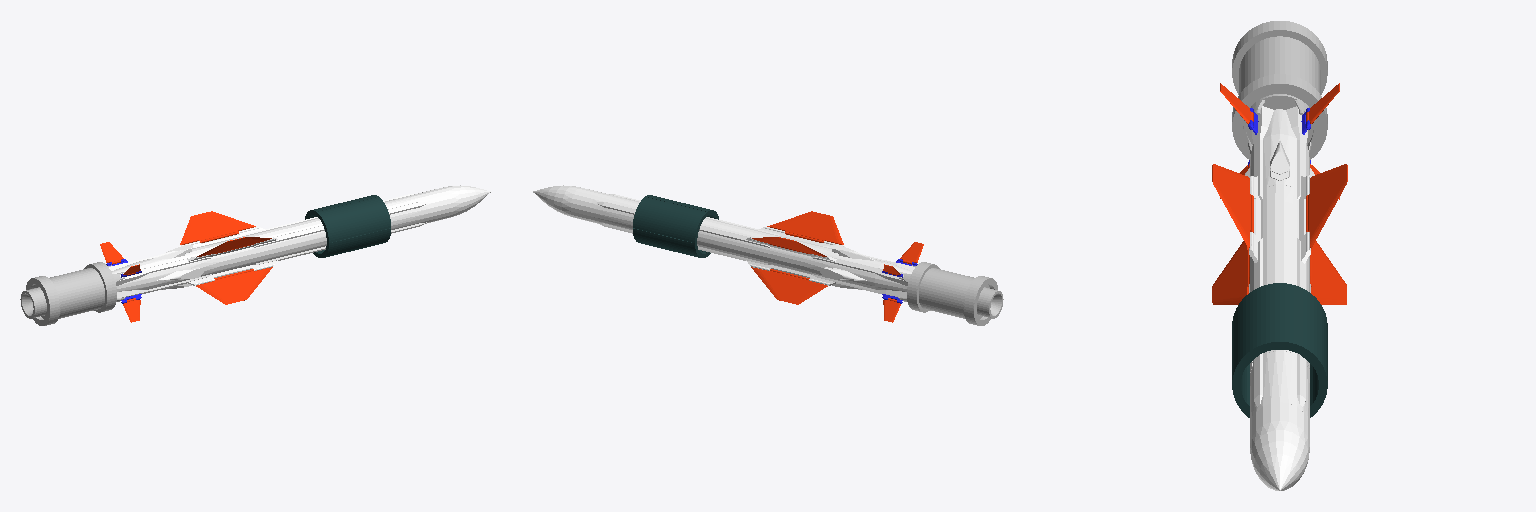
--- Render facts (derived) ---
Views: 3 orthographic renders of the robot side by side, from view 1: azimuth 30°, elevation 25°; view 2: azimuth 150°, elevation 25°; view 3: azimuth 270°, elevation 25°.
Model model_missile with 18 links and 17 joints (12 revolute, 5 fixed), rooted at base_link, posed every joint at zero.
Visible links, largest first — view 1: base_link, Booster_1, Holder_2, Wing1_3, Wing1_1, Holder_3; view 2: base_link, Booster_1, Holder_1, Wing1_2, Wing1_4, Holder_4; view 3: base_link, Booster_1, Holder_2, Holder_1, Wing1_4, Wing1_1, Wing1_3, Wing1_2, Holder_3, Holder_4.
Link boxes in pixels (x1,y1,x2,y2): base_link: (109,185,490,297); Booster_1: (20,262,124,325); Holder_2: (317,197,390,242); Wing1_3: (196,267,272,304); Wing1_1: (180,211,255,244); Holder_3: (317,228,390,257); base_link: (533,185,914,297); Booster_1: (899,262,1003,325); Holder_1: (633,197,706,242); Wing1_2: (751,267,827,304); Wing1_4: (767,211,843,244); Holder_4: (633,228,706,257); base_link: (1245,106,1314,490); Booster_1: (1232,21,1327,159); Holder_2: (1232,283,1279,384); Holder_1: (1280,283,1327,384); Wing1_4: (1212,164,1253,248); Wing1_1: (1306,164,1347,248); Wing1_3: (1212,241,1249,304); Wing1_2: (1310,241,1346,304); Holder_3: (1232,364,1249,417); Holder_4: (1310,364,1327,417).
Size in the robot's own frame: 5.95 by 0.7786 by 0.7786 metres.
Meshes: 18 distinct files referenced, 18 mesh visuals loaded (18 binary STL).

robot.urdf — model_missile:
<?xml version="1.0" ?>
<!-- =================================================================================== -->
<!-- |    This document was autogenerated by xacro from urdf/model_missile.xacro       | -->
<!-- |    EDITING THIS FILE BY HAND IS NOT RECOMMENDED                                 | -->
<!-- =================================================================================== -->
<robot name="model_missile">
  <material name="grey">
    <color rgba="0.82421875 0.82421875 0.82421875 1.0"/>
  </material>
  <material name="darkgrey">
    <color rgba="0.1843137254901961 0.30980392156862746 0.30980392156862746 1.000"/>
  </material>
  <material name="silver">
    <color rgba="0.700 0.700 0.700 1.000"/>
  </material>
  <material name="white">
    <color rgba="1 1 1 1"/>
  </material>
  <material name="orange">
    <color rgba="1 0.3 0.1 1"/>
  </material>
  <material name="blue">
    <color rgba="0.2 0.2 1 1"/>
  </material>
  <material name="red">
    <color rgba="0.8 0 0 1"/>
  </material>
  <material name="green">
    <color rgba="0.0 1 0.0 1"/>
  </material>
  <material name="black">
    <color rgba="0 0 0 1"/>
  </material>
  <transmission name="fins_rev1_tran">
    <type>transmission_interface/SimpleTransmission</type>
    <joint name="fins_rev1">
      <hardwareInterface>hardware_interface/EffortJointInterface</hardwareInterface>
    </joint>
    <actuator name="fins_rev1_actr">
      <hardwareInterface>hardware_interface/EffortJointInterface</hardwareInterface>
      <mechanicalReduction>1</mechanicalReduction>
    </actuator>
  </transmission>
  <transmission name="fins_rev4_tran">
    <type>transmission_interface/SimpleTransmission</type>
    <joint name="fins_rev4">
      <hardwareInterface>hardware_interface/EffortJointInterface</hardwareInterface>
    </joint>
    <actuator name="fins_rev4_actr">
      <hardwareInterface>hardware_interface/EffortJointInterface</hardwareInterface>
      <mechanicalReduction>1</mechanicalReduction>
    </actuator>
  </transmission>
  <transmission name="fins_rev3_tran">
    <type>transmission_interface/SimpleTransmission</type>
    <joint name="fins_rev3">
      <hardwareInterface>hardware_interface/EffortJointInterface</hardwareInterface>
    </joint>
    <actuator name="fins_rev3_actr">
      <hardwareInterface>hardware_interface/EffortJointInterface</hardwareInterface>
      <mechanicalReduction>1</mechanicalReduction>
    </actuator>
  </transmission>
  <transmission name="fins_rev2_tran">
    <type>transmission_interface/SimpleTransmission</type>
    <joint name="fins_rev2">
      <hardwareInterface>hardware_interface/EffortJointInterface</hardwareInterface>
    </joint>
    <actuator name="fins_rev2_actr">
      <hardwareInterface>hardware_interface/EffortJointInterface</hardwareInterface>
      <mechanicalReduction>1</mechanicalReduction>
    </actuator>
  </transmission>
  <transmission name="wings_fold1_tran">
    <type>transmission_interface/SimpleTransmission</type>
    <joint name="wings_fold1">
      <hardwareInterface>hardware_interface/EffortJointInterface</hardwareInterface>
    </joint>
    <actuator name="wings_fold1_actr">
      <hardwareInterface>hardware_interface/EffortJointInterface</hardwareInterface>
      <mechanicalReduction>1</mechanicalReduction>
    </actuator>
  </transmission>
  <transmission name="wings_fold2_tran">
    <type>transmission_interface/SimpleTransmission</type>
    <joint name="wings_fold2">
      <hardwareInterface>hardware_interface/EffortJointInterface</hardwareInterface>
    </joint>
    <actuator name="wings_fold2_actr">
      <hardwareInterface>hardware_interface/EffortJointInterface</hardwareInterface>
      <mechanicalReduction>1</mechanicalReduction>
    </actuator>
  </transmission>
  <transmission name="wings_fold3_tran">
    <type>transmission_interface/SimpleTransmission</type>
    <joint name="wings_fold3">
      <hardwareInterface>hardware_interface/EffortJointInterface</hardwareInterface>
    </joint>
    <actuator name="wings_fold3_actr">
      <hardwareInterface>hardware_interface/EffortJointInterface</hardwareInterface>
      <mechanicalReduction>1</mechanicalReduction>
    </actuator>
  </transmission>
  <transmission name="wings_fold4_tran">
    <type>transmission_interface/SimpleTransmission</type>
    <joint name="wings_fold4">
      <hardwareInterface>hardware_interface/EffortJointInterface</hardwareInterface>
    </joint>
    <actuator name="wings_fold4_actr">
      <hardwareInterface>hardware_interface/EffortJointInterface</hardwareInterface>
      <mechanicalReduction>1</mechanicalReduction>
    </actuator>
  </transmission>
  <transmission name="fin_fold1_tran">
    <type>transmission_interface/SimpleTransmission</type>
    <joint name="fin_fold1">
      <hardwareInterface>hardware_interface/EffortJointInterface</hardwareInterface>
    </joint>
    <actuator name="fin_fold1_actr">
      <hardwareInterface>hardware_interface/EffortJointInterface</hardwareInterface>
      <mechanicalReduction>1</mechanicalReduction>
    </actuator>
  </transmission>
  <transmission name="fin_fold2_tran">
    <type>transmission_interface/SimpleTransmission</type>
    <joint name="fin_fold2">
      <hardwareInterface>hardware_interface/EffortJointInterface</hardwareInterface>
    </joint>
    <actuator name="fin_fold2_actr">
      <hardwareInterface>hardware_interface/EffortJointInterface</hardwareInterface>
      <mechanicalReduction>1</mechanicalReduction>
    </actuator>
  </transmission>
  <transmission name="fin_fold3_tran">
    <type>transmission_interface/SimpleTransmission</type>
    <joint name="fin_fold3">
      <hardwareInterface>hardware_interface/EffortJointInterface</hardwareInterface>
    </joint>
    <actuator name="fin_fold3_actr">
      <hardwareInterface>hardware_interface/EffortJointInterface</hardwareInterface>
      <mechanicalReduction>1</mechanicalReduction>
    </actuator>
  </transmission>
  <transmission name="fin_fold4_tran">
    <type>transmission_interface/SimpleTransmission</type>
    <joint name="fin_fold4">
      <hardwareInterface>hardware_interface/EffortJointInterface</hardwareInterface>
    </joint>
    <actuator name="fin_fold4_actr">
      <hardwareInterface>hardware_interface/EffortJointInterface</hardwareInterface>
      <mechanicalReduction>1</mechanicalReduction>
    </actuator>
  </transmission>
  <gazebo>
    <plugin filename="libgazebo_ros_control.so" name="model_missile_controller">
      <robotNamespace>model_missile_controller</robotNamespace>
      <robotSimType>gazebo_ros_control/DefaultRobotHWSim</robotSimType>
    </plugin>
    <plugin filename="libSimpleThruster.so" name="BoosterThrust">
      <link_name>Booster_1</link_name>
      <forward_dir>1 0 0</forward_dir>
      <thrust_origin>-0.920 0 0</thrust_origin>
      <robotNamespace/>
      <topic_name>booster_visual</topic_name>
      <thrust_topic>booster_force</thrust_topic>
    </plugin>
    <plugin filename="libThrustVectoring.so" name="ThrustVectoring">
      <link_name>base_link</link_name>
      <forward_dir>1 0 0</forward_dir>
      <thrust_origin>-1.880 0 0</thrust_origin>
      <robotNamespace/>
      <topic_name>thrust_visual</topic_name>
      <vector_topic>thrust_force</vector_topic>
    </plugin>
    <plugin filename="libAerodynamic.so" name="FullBodyAerodynamic">
      <cp>-0.238 0.0 0.0</cp>
      <sref>0.096</sref>
      <lref>0.350</lref>
      <air_density>1.2041</air_density>
      <link_name>base_link</link_name>
      <radial_symmetry>1/</radial_symmetry>
      <!-- <upward>0 0 1</upward> -->
      <forward>1 0 0</forward>
      <robotNamespace/>
      <topic_name>AeroVectors</topic_name>
      <aerodynamics axis_type="wind" case="with_booster">
        <mach_table>0.2 0.4 0.5 0.6 0.7 0.75 0.8 0.93</mach_table>
        <alpha_table>.00, 4.00, 8.00, 12.00, 16.00, 20.00, 24.00, 28.00</alpha_table>
        <mach nr="0.2">
          <cn_table>0.000, 1.037, 2.115, 3.322, 4.383, 5.449, 6.445, 7.475</cn_table>
          <cm_table>0.000, -0.222, -0.289, -0.558, -0.080, 0.688, 1.595, 2.038</cm_table>
          <ca_table>0.266, 0.249, 0.194, 0.148, 0.134, 0.160, 0.128, 0.050</ca_table>
          <cl_table>0.000, 1.017, 2.067, 3.218, 4.176, 5.066, 5.836, 6.576</cl_table>
          <cd_table>0.266, 0.321, 0.487, 0.835, 1.337, 2.014, 2.738, 3.553</cd_table>
        </mach>
        <mach nr="0.4">
          <cn_table>0.000, 1.051, 2.134, 3.337, 4.373, 5.448, 6.500, 7.626</cn_table>
          <cm_table>0.000, -0.250, -0.333, -0.604, -0.055, 0.655, 1.426, 1.835</cm_table>
          <ca_table>0.263, 0.246, 0.193, 0.147, 0.133, 0.157, 0.121, 0.037</ca_table>
          <cl_table>0.000, 1.031, 2.087, 3.233, 4.167, 5.066, 5.889, 6.716</cl_table>
          <cd_table>0.263, 0.318, 0.488, 0.838, 1.333, 2.011, 2.754, 3.613</cd_table>
        </mach>
        <mach nr="0.5">
          <cn_table>0.000, 1.070, 2.169, 3.390, 4.433, 5.517, 6.603, 7.866</cn_table>
          <cm_table>0.000, -0.276, -0.389, -0.727, -0.210, 0.446, 1.204, 1.690</cm_table>
          <ca_table>0.261, 0.243, 0.187, 0.141, 0.127, 0.152, 0.116, 0.025</ca_table>
          <cl_table>0.000, 1.051, 2.121, 3.286, 4.227, 5.132, 5.986, 6.934</cl_table>
          <cd_table>0.261, 0.317, 0.487, 0.842, 1.344, 2.030, 2.791, 3.715</cd_table>
        </mach>
        <mach nr="0.6">
          <cn_table>0.000, 1.093, 2.208, 3.444, 4.494, 5.607, 6.812, 8.206</cn_table>
          <cm_table>0.000, -0.305, -0.444, -0.825, -0.337, 0.307, 1.051, 1.581</cm_table>
          <ca_table>0.259, 0.240, 0.183, 0.135, 0.121, 0.148, 0.108, 0.011</ca_table>
          <cl_table>0.000, 1.074, 2.161, 3.341, 4.287, 5.219, 6.179, 7.240</cl_table>
          <cd_table>0.259, 0.316, 0.488, 0.848, 1.355, 2.056, 2.869, 3.862</cd_table>
        </mach>
        <mach nr="0.7">
          <cn_table>0.000, 1.101, 2.218, 3.456, 4.531, 5.736, 7.029, 8.570</cn_table>
          <cm_table>0.000, -0.320, -0.476, -0.877, -0.474, 0.203, 0.845, 1.353</cm_table>
          <ca_table>0.257, 0.238, 0.180, 0.132, 0.119, 0.144, 0.101, -0.002</ca_table>
          <cl_table>0.000, 1.081, 2.172, 3.353, 4.323, 5.341, 6.381, 7.568</cl_table>
          <cd_table>0.257, 0.314, 0.487, 0.848, 1.363, 2.097, 2.951, 4.021</cd_table>
        </mach>
        <mach nr="0.75">
          <cn_table>0.000, 1.118, 2.250, 3.503, 4.607, 5.853, 7.206, 8.818</cn_table>
          <cm_table>0.000, -0.345, -0.528, -0.974, -0.628, 0.040, 0.636, 1.106</cm_table>
          <ca_table>0.256, 0.236, 0.178, 0.129, 0.116, 0.141, 0.097, -0.009</ca_table>
          <cl_table>0.000, 1.099, 2.204, 3.399, 4.397, 5.452, 6.543, 7.790</cl_table>
          <cd_table>0.256, 0.314, 0.489, 0.855, 1.382, 2.135, 3.020, 4.132</cd_table>
        </mach>
        <mach nr="0.8">
          <cn_table>0.000, 1.148, 2.324, 3.656, 4.850, 6.177, 7.617, 9.288</cn_table>
          <cm_table>0.000, -0.366, -0.575, -1.115, -0.810, -0.218, 0.398, 0.701</cm_table>
          <ca_table>0.271, 0.251, 0.189, 0.137, 0.123, 0.151, 0.107, -0.001</ca_table>
          <cl_table>0.000, 1.128, 2.275, 3.547, 4.628, 5.753, 6.915, 8.201</cl_table>
          <cd_table>0.271, 0.330, 0.510, 0.894, 1.455, 2.255, 3.196, 4.359</cd_table>
        </mach>
        <mach nr="0.93">
          <cn_table>0.000, 1.254, 2.540, 4.024, 5.393, 6.903, 8.553, 10.586</cn_table>
          <cm_table>0.000, -0.458, -0.795, -1.620,-1.509, -0.989, -0.510, -0.389</cm_table>
          <ca_table>0.458, 0.455, 0.440, 0.421, 0.399, 0.370, 0.294, 0.147</ca_table>
          <cl_table>0.000, 1.219, 2.454, 3.848, 5.074, 6.360, 7.694, 9.278</cl_table>
          <cd_table>0.458, 0.541, 0.790, 1.248, 1.870, 2.709, 3.748, 5.100</cd_table>
        </mach>
      </aerodynamics>
      <aerodynamics axis_type="wind" case="boosterless">
        <mach_table>0.2, 0.4, 0.5, 0.6, 0.7, 0.75, 0.8, 0.93</mach_table>
        <alpha_table>.00, 4.00, 8.00, 12.00, 16.00, 20.00, 24.00, 28.00</alpha_table>
        <mach nr="0.2">
          <cn_table>0.000, 1.013, 2.044, 3.181, 4.150, 5.103, 5.967, 6.846</cn_table>
          <cm_table>0.000, -0.041, 0.192, 0.339, 1.345, 2.745, 4.378, 5.630</cm_table>
          <ca_table>0.239, 0.221, 0.167, 0.122, 0.110, 0.141, 0.118, 0.056</ca_table>
          <cl_table>0.000, 0.995, 2.001, 3.086, 3.959, 4.747, 5.403, 6.019</cl_table>
          <cd_table>0.239, 0.292, 0.450, 0.780, 1.249, 1.878, 2.535, 3.264</cd_table>
        </mach>
        <mach nr="0.4">
          <cn_table>0.000, 1.027, 2.062, 3.192, 4.132, 5.086, 5.996, 6.957</cn_table>
          <cm_table>0.000, -0.068, 0.153, 0.311, 1.412, 2.792, 4.345, 5.636</cm_table>
          <ca_table>0.236, 0.219, 0.166, 0.122, 0.110, 0.138, 0.112, 0.046</ca_table>
          <cl_table>0.000, 1.009, 2.019, 3.097, 3.941, 4.732, 5.432, 6.121</cl_table>
          <cd_table>0.236, 0.290, 0.451, 0.783, 1.244, 1.869, 2.541, 3.306</cd_table>
        </mach>
        <mach nr="0.5">
          <cn_table>0.000, 1.046, 2.096, 3.243, 4.188, 5.148, 6.084, 7.158</cn_table>
          <cm_table>0.000, -0.094, 0.100, 0.197, 1.278, 2.623, 4.198, 5.696</cm_table>
          <ca_table>0.234, 0.216, 0.161, 0.115, 0.103, 0.134, 0.108, 0.036</ca_table>
          <cl_table>0.000, 1.028, 2.053, 3.149, 3.997, 4.792, 5.515, 6.304</cl_table>
          <cd_table>0.234, 0.289, 0.451, 0.787, 1.254, 1.886, 2.573, 3.392</cd_table>
        </mach>
        <mach nr="0.6">
          <cn_table>0.000, 1.069, 2.135, 3.296, 4.245, 5.229, 6.262, 7.452</cn_table>
          <cm_table>0.000, -0.123, 0.047, 0.108, 1.172, 2.533, 4.201, 5.827</cm_table>
          <ca_table>0.232, 0.213, 0.156, 0.109, 0.098, 0.130, 0.101, 0.025</ca_table>
          <cl_table>0.000, 1.051, 2.093, 3.202, 4.053, 4.869, 5.680, 6.568</cl_table>
          <cd_table>0.232, 0.288, 0.452, 0.792, 1.264, 1.910, 2.639, 3.520</cd_table>
        </mach>
        <mach nr="0.7">
          <cn_table>0.000, 1.076, 2.145, 3.306, 4.278, 5.339, 6.450, 7.770</cn_table>
          <cm_table>0.000, -0.137, 0.019, 0.065, 1.056, 2.521, 4.151, 5.839</cm_table>
          <ca_table>0.230, 0.211, 0.154, 0.107, 0.096, 0.127, 0.095, 0.014</ca_table>
          <cl_table>0.000, 1.059, 2.103, 3.212, 4.086, 4.974, 5.854, 6.854</cl_table>
          <cd_table>0.230, 0.286, 0.451, 0.792, 1.271, 1.945, 2.711, 3.660</cd_table>
        </mach>
        <mach nr="0.75">
          <cn_table>0.000, 1.094, 2.176, 3.352, 4.351, 5.448, 6.612, 7.995</cn_table>
          <cm_table>0.000, -0.161, -0.032, -0.027, 0.919, 2.405, 4.021, 5.713</cm_table>
          <ca_table>0.230, 0.210, 0.152, 0.104, 0.093, 0.124, 0.092, 0.008</ca_table>
          <cl_table>0.000, 1.077, 2.134, 3.258, 4.156, 5.077, 6.002, 7.055</cl_table>
          <cd_table>0.230, 0.286, 0.453, 0.799, 1.289, 1.980, 2.774, 3.761</cd_table>
        </mach>
        <mach nr="0.8">
          <cn_table>0.000, 1.124, 2.250, 3.504, 4.588, 5.763, 7.008, 8.441</cn_table>
          <cm_table>0.000, -0.183, -0.077, -0.163, 0.762, 2.194, 3.861, 5.428</cm_table>
          <ca_table>0.245, 0.225, 0.163, 0.112, 0.100, 0.134, 0.103, 0.017</ca_table>
          <cl_table>0.000, 1.106, 2.205, 3.404, 4.383, 5.369, 6.360, 7.445</cl_table>
          <cd_table>0.245, 0.302, 0.474, 0.838, 1.361, 2.097, 2.944, 3.978</cd_table>
        </mach>
        <mach nr="0.93">
          <cn_table>0.000, 1.227, 2.460, 3.862, 5.108, 6.451, 7.887, 9.638</cn_table>
          <cm_table>0.000, -0.249, -0.243, -0.576, 0.241, 1.695, 3.348, 4.986</cm_table>
          <ca_table>0.433, 0.430, 0.416, 0.397, 0.377, 0.355, 0.292, 0.172</ca_table>
          <cl_table>0.000, 1.194, 2.378, 3.695, 4.806, 5.941, 7.086, 8.429</cl_table>
          <cd_table>0.433, 0.514, 0.754, 1.191, 1.771, 2.540, 3.475, 4.676</cd_table>
        </mach>
      </aerodynamics>
    </plugin>
    <plugin filename="libDetachableJoint.so" name="DetachHolder1">
      <parent_link>base_link</parent_link>
      <link_to_detach>Holder_1</link_to_detach>
      <joint_to_detach>HolderJoint1</joint_to_detach>
      <detach_direction>0 1 1</detach_direction>
      <!-- <detach_acc>10000</detach_acc> -->
      <detach_topic>holder1_detach</detach_topic>
      <robotNamespace/>
      <visual_offset/>
      <topic_name>holder1visual</topic_name>
    </plugin>
    <plugin filename="libDetachableJoint.so" name="DetachHolder2">
      <parent_link>base_link</parent_link>
      <link_to_detach>Holder_2</link_to_detach>
      <joint_to_detach>HolderJoint2</joint_to_detach>
      <detach_direction>0 -1 1</detach_direction>
      <detach_acc>10</detach_acc>
      <detach_topic>holder2_detach</detach_topic>
      <robotNamespace/>
      <visual_offset/>
      <topic_name>holder2visual</topic_name>
    </plugin>
    <plugin filename="libDetachableJoint.so" name="DetachHolder3">
      <parent_link>base_link</parent_link>
      <link_to_detach>Holder_3</link_to_detach>
      <joint_to_detach>HolderJoint3</joint_to_detach>
      <detach_direction>0 -1 -1</detach_direction>
      <detach_acc>10</detach_acc>
      <detach_topic>holder3_detach</detach_topic>
      <robotNamespace/>
      <visual_offset/>
      <topic_name>holder3visual</topic_name>
    </plugin>
    <plugin filename="libDetachableJoint.so" name="DetachHolder4">
      <parent_link>base_link</parent_link>
      <link_to_detach>Holder_4</link_to_detach>
      <joint_to_detach>HolderJoint4</joint_to_detach>
      <detach_direction>0 1 -1</detach_direction>
      <detach_acc>100</detach_acc>
      <detach_topic>holder4_detach</detach_topic>
      <robotNamespace/>
      <visual_offset/>
      <topic_name>holder4visual</topic_name>
    </plugin>
    <plugin filename="libDetachableJoint.so" name="DetachBooster">
      <parent_link>base_link</parent_link>
      <link_to_detach>Booster_1</link_to_detach>
      <joint_to_detach>booster_fixing</joint_to_detach>
      <detach_direction>-1 0 0</detach_direction>
      <detach_acc>10</detach_acc>
      <detach_topic>booster_detach</detach_topic>
      <visual_offset/>
      <robotNamespace/>
    </plugin>
    <plugin filename="libAerodynamic.so" name="Fin1Aerodynamic">
      <cp>0.0 0.1 0.1</cp>
      <sref>0.044</sref>
      <lref>0.044</lref>
      <air_density>1.2041</air_density>
      <link_name>FinHolder_1</link_name>
      <radial_symmetry>1/</radial_symmetry>
      <!-- <upward>0 0 1</upward> -->
      <forward>1 0 0</forward>
      <robotNamespace/>
      <topic_name>AeroVectors</topic_name>
      <aerodynamics axis_type="body" case="with_booster">
        <mach_table>0.2 0.4 0.5 0.6 0.7 0.75 0.8 0.93</mach_table>
        <alpha_table>.00, 4.00, 8.00, 12.00, 16.00, 20.00, 24.00, 28.00</alpha_table>
        <mach nr="0.2">
          <cn_table>.0000, .2863, .5432, .8305, .9726, 1.0564, 1.0950, 1.1860</cn_table>
          <cm_table>.0000, -1.1294, -2.1425, -3.2754, -3.8362, -4.1665, -4.3190, -4.6776</cm_table>
          <ca_table>.0229, .0229, .0229, .0229, .0229, .0229, .0229, .0229</ca_table>
        </mach>
        <mach nr="0.4">
          <cn_table>.0000, .2923, .5521, .8386, .9666, 1.0587, 1.1216, 1.2260</cn_table>
          <cm_table>.0000, -1.1529, -2.1774, -3.3071, -3.8121, -4.1751, -4.4232, -4.8352</cm_table>
          <ca_table>.0225, .0225, .0225, .0225, .0225, .0225, .0225, .0225</ca_table>
        </mach>
        <mach nr="0.5">
          <cn_table>.0000, .2986, .5646, .8627, .9958, 1.0958, 1.1631, 1.2684</cn_table>
          <cm_table>.0000, -1.1776, -2.2265, -3.4022, -3.9270, -4.3213, -4.5867, -5.0019</cm_table>
          <ca_table>.0222, .0222, .0222, .0222, .0222, .0222, .0222, .0222</ca_table>
        </mach>
        <mach nr="0.6">
          <cn_table>.0000, .3058, .5776, .8835, 1.0210, 1.1251, 1.2047, 1.3162</cn_table>
          <cm_table> .0000, -1.2057, -2.2773, -3.4837, -4.0256, -4.4363, -4.7500, -5.1897</cm_table>
          <ca_table>.0220, .0220, .0220, .0220, .0220, .0220, .0220, .0220</ca_table>
        </mach>
        <mach nr="0.7">
          <cn_table>.0000, .3090, .5835, .8925, 1.0449, 1.1529, 1.2554, 1.3839</cn_table>
          <cm_table>.0000, -1.2180, -2.3000, -3.5184, -4.1193, -4.5447, -4.9488, -5.4556</cm_table>
          <ca_table>.0217, .0217, .0217, .0217, .0217, .0217, .0217, .0217</ca_table>
        </mach>
        <mach nr="0.75">
          <cn_table>.0000, .3148, .5951, .9124, 1.0761, 1.1889, 1.3036, 1.4442</cn_table>
          <cm_table>.0000, -1.2408, -2.3455, -3.5963, -4.2415, -4.6862, -5.1381, -5.6925</cm_table>
          <ca_table>.0215, .0215, .0215, .0215, .0215, .0215, .0215, .0215</ca_table>
        </mach>
        <mach nr="0.8">
          <cn_table>.0000, .3217, .6110, .9516, 1.1309, 1.2632, 1.3835, 1.5524</cn_table>
          <cm_table>.0000, -1.2678, -2.4078, -3.7498, -4.4566, -4.9777, -5.4518, -6.1174</cm_table>
          <ca_table>.0214, .0214, .0214, .0214, .0214, .0214, .0214, .0214</ca_table>
        </mach>
        <mach nr="0.93">
          <cn_table>.0000, .3446, .6624, 1.0588, 1.2808, 1.4380, 1.5948, 1.8203</cn_table>
          <cm_table>.0000, -1.3555, -2.6054, -4.1647, -5.0379, -5.6562, -6.2730, -7.1600</cm_table>
          <ca_table>.0561, .0561, .0561, .0561, .0561, .0561, .0561, .0561</ca_table>
        </mach>
      </aerodynamics>
    </plugin>
    <plugin filename="libAerodynamic.so" name="Fin2Aerodynamic">
      <cp>0.0 0.1 0.1</cp>
      <sref>0.044</sref>
      <lref>0.044</lref>
      <air_density>1.2041</air_density>
      <link_name>FinHolder_2</link_name>
      <radial_symmetry>1/</radial_symmetry>
      <!-- <upward>0 0 1</upward> -->
      <forward>1 0 0</forward>
      <robotNamespace/>
      <topic_name>AeroVectors</topic_name>
      <aerodynamics axis_type="body" case="with_booster">
        <mach_table>0.2 0.4 0.5 0.6 0.7 0.75 0.8 0.93</mach_table>
        <alpha_table>.00, 4.00, 8.00, 12.00, 16.00, 20.00, 24.00, 28.00</alpha_table>
        <mach nr="0.2">
          <cn_table>.0000, .2863, .5432, .8305, .9726, 1.0564, 1.0950, 1.1860</cn_table>
          <cm_table>.0000, -1.1294, -2.1425, -3.2754, -3.8362, -4.1665, -4.3190, -4.6776</cm_table>
          <ca_table>.0229, .0229, .0229, .0229, .0229, .0229, .0229, .0229</ca_table>
        </mach>
        <mach nr="0.4">
          <cn_table>.0000, .2923, .5521, .8386, .9666, 1.0587, 1.1216, 1.2260</cn_table>
          <cm_table>.0000, -1.1529, -2.1774, -3.3071, -3.8121, -4.1751, -4.4232, -4.8352</cm_table>
          <ca_table>.0225, .0225, .0225, .0225, .0225, .0225, .0225, .0225</ca_table>
        </mach>
        <mach nr="0.5">
          <cn_table>.0000, .2986, .5646, .8627, .9958, 1.0958, 1.1631, 1.2684</cn_table>
          <cm_table>.0000, -1.1776, -2.2265, -3.4022, -3.9270, -4.3213, -4.5867, -5.0019</cm_table>
          <ca_table>.0222, .0222, .0222, .0222, .0222, .0222, .0222, .0222</ca_table>
        </mach>
        <mach nr="0.6">
          <cn_table>.0000, .3058, .5776, .8835, 1.0210, 1.1251, 1.2047, 1.3162</cn_table>
          <cm_table> .0000, -1.2057, -2.2773, -3.4837, -4.0256, -4.4363, -4.7500, -5.1897</cm_table>
          <ca_table>.0220, .0220, .0220, .0220, .0220, .0220, .0220, .0220</ca_table>
        </mach>
        <mach nr="0.7">
          <cn_table>.0000, .3090, .5835, .8925, 1.0449, 1.1529, 1.2554, 1.3839</cn_table>
          <cm_table>.0000, -1.2180, -2.3000, -3.5184, -4.1193, -4.5447, -4.9488, -5.4556</cm_table>
          <ca_table>.0217, .0217, .0217, .0217, .0217, .0217, .0217, .0217</ca_table>
        </mach>
        <mach nr="0.75">
          <cn_table>.0000, .3148, .5951, .9124, 1.0761, 1.1889, 1.3036, 1.4442</cn_table>
          <cm_table>.0000, -1.2408, -2.3455, -3.5963, -4.2415, -4.6862, -5.1381, -5.6925</cm_table>
          <ca_table>.0215, .0215, .0215, .0215, .0215, .0215, .0215, .0215</ca_table>
        </mach>
        <mach nr="0.8">
          <cn_table>.0000, .3217, .6110, .9516, 1.1309, 1.2632, 1.3835, 1.5524</cn_table>
          <cm_table>.0000, -1.2678, -2.4078, -3.7498, -4.4566, -4.9777, -5.4518, -6.1174</cm_table>
          <ca_table>.0214, .0214, .0214, .0214, .0214, .0214, .0214, .0214</ca_table>
        </mach>
        <mach nr="0.93">
          <cn_table>.0000, .3446, .6624, 1.0588, 1.2808, 1.4380, 1.5948, 1.8203</cn_table>
          <cm_table>.0000, -1.3555, -2.6054, -4.1647, -5.0379, -5.6562, -6.2730, -7.1600</cm_table>
          <ca_table>.0561, .0561, .0561, .0561, .0561, .0561, .0561, .0561</ca_table>
        </mach>
      </aerodynamics>
    </plugin>
    <plugin filename="libAerodynamic.so" name="Fin3Aerodynamic">
      <cp>0.0 0.1 0.1</cp>
      <sref>0.044</sref>
      <lref>0.044</lref>
      <air_density>1.2041</air_density>
      <link_name>FinHolder_3</link_name>
      <radial_symmetry>1/</radial_symmetry>
      <!-- <upward>0 0 1</upward> -->
      <forward>1 0 0</forward>
      <robotNamespace/>
      <topic_name>AeroVectors</topic_name>
      <aerodynamics axis_type="body" case="with_booster">
        <mach_table>0.2 0.4 0.5 0.6 0.7 0.75 0.8 0.93</mach_table>
        <alpha_table>.00, 4.00, 8.00, 12.00, 16.00, 20.00, 24.00, 28.00</alpha_table>
        <mach nr="0.2">
          <cn_table>.0000, .2863, .5432, .8305, .9726, 1.0564, 1.0950, 1.1860</cn_table>
          <cm_table>.0000, -1.1294, -2.1425, -3.2754, -3.8362, -4.1665, -4.3190, -4.6776</cm_table>
          <ca_table>.0229, .0229, .0229, .0229, .0229, .0229, .0229, .0229</ca_table>
        </mach>
        <mach nr="0.4">
          <cn_table>.0000, .2923, .5521, .8386, .9666, 1.0587, 1.1216, 1.2260</cn_table>
          <cm_table>.0000, -1.1529, -2.1774, -3.3071, -3.8121, -4.1751, -4.4232, -4.8352</cm_table>
          <ca_table>.0225, .0225, .0225, .0225, .0225, .0225, .0225, .0225</ca_table>
        </mach>
        <mach nr="0.5">
          <cn_table>.0000, .2986, .5646, .8627, .9958, 1.0958, 1.1631, 1.2684</cn_table>
          <cm_table>.0000, -1.1776, -2.2265, -3.4022, -3.9270, -4.3213, -4.5867, -5.0019</cm_table>
          <ca_table>.0222, .0222, .0222, .0222, .0222, .0222, .0222, .0222</ca_table>
        </mach>
        <mach nr="0.6">
          <cn_table>.0000, .3058, .5776, .8835, 1.0210, 1.1251, 1.2047, 1.3162</cn_table>
          <cm_table> .0000, -1.2057, -2.2773, -3.4837, -4.0256, -4.4363, -4.7500, -5.1897</cm_table>
          <ca_table>.0220, .0220, .0220, .0220, .0220, .0220, .0220, .0220</ca_table>
        </mach>
        <mach nr="0.7">
          <cn_table>.0000, .3090, .5835, .8925, 1.0449, 1.1529, 1.2554, 1.3839</cn_table>
          <cm_table>.0000, -1.2180, -2.3000, -3.5184, -4.1193, -4.5447, -4.9488, -5.4556</cm_table>
          <ca_table>.0217, .0217, .0217, .0217, .0217, .0217, .0217, .0217</ca_table>
        </mach>
        <mach nr="0.75">
          <cn_table>.0000, .3148, .5951, .9124, 1.0761, 1.1889, 1.3036, 1.4442</cn_table>
          <cm_table>.0000, -1.2408, -2.3455, -3.5963, -4.2415, -4.6862, -5.1381, -5.6925</cm_table>
          <ca_table>.0215, .0215, .0215, .0215, .0215, .0215, .0215, .0215</ca_table>
        </mach>
        <mach nr="0.8">
          <cn_table>.0000, .3217, .6110, .9516, 1.1309, 1.2632, 1.3835, 1.5524</cn_table>
          <cm_table>.0000, -1.2678, -2.4078, -3.7498, -4.4566, -4.9777, -5.4518, -6.1174</cm_table>
          <ca_table>.0214, .0214, .0214, .0214, .0214, .0214, .0214, .0214</ca_table>
        </mach>
        <mach nr="0.93">
          <cn_table>.0000, .3446, .6624, 1.0588, 1.2808, 1.4380, 1.5948, 1.8203</cn_table>
          <cm_table>.0000, -1.3555, -2.6054, -4.1647, -5.0379, -5.6562, -6.2730, -7.1600</cm_table>
          <ca_table>.0561, .0561, .0561, .0561, .0561, .0561, .0561, .0561</ca_table>
        </mach>
      </aerodynamics>
    </plugin>
    <plugin filename="libAerodynamic.so" name="Fin4Aerodynamic">
      <cp>0.0 0.1 0.1</cp>
      <sref>0.044</sref>
      <lref>0.044</lref>
      <air_density>1.2041</air_density>
      <link_name>FinHolder_4</link_name>
      <radial_symmetry>1/</radial_symmetry>
      <!-- <upward>0 0 1</upward> -->
      <forward>1 0 0</forward>
      <robotNamespace/>
      <topic_name>AeroVectors</topic_name>
      <aerodynamics axis_type="body" case="with_booster">
        <mach_table>0.2 0.4 0.5 0.6 0.7 0.75 0.8 0.93</mach_table>
        <alpha_table>.00, 4.00, 8.00, 12.00, 16.00, 20.00, 24.00, 28.00</alpha_table>
        <mach nr="0.2">
          <cn_table>.0000, .2863, .5432, .8305, .9726, 1.0564, 1.0950, 1.1860</cn_table>
          <cm_table>.0000, -1.1294, -2.1425, -3.2754, -3.8362, -4.1665, -4.3190, -4.6776</cm_table>
          <ca_table>.0229, .0229, .0229, .0229, .0229, .0229, .0229, .0229</ca_table>
        </mach>
        <mach nr="0.4">
          <cn_table>.0000, .2923, .5521, .8386, .9666, 1.0587, 1.1216, 1.2260</cn_table>
          <cm_table>.0000, -1.1529, -2.1774, -3.3071, -3.8121, -4.1751, -4.4232, -4.8352</cm_table>
          <ca_table>.0225, .0225, .0225, .0225, .0225, .0225, .0225, .0225</ca_table>
        </mach>
        <mach nr="0.5">
          <cn_table>.0000, .2986, .5646, .8627, .9958, 1.0958, 1.1631, 1.2684</cn_table>
          <cm_table>.0000, -1.1776, -2.2265, -3.4022, -3.9270, -4.3213, -4.5867, -5.0019</cm_table>
          <ca_table>.0222, .0222, .0222, .0222, .0222, .0222, .0222, .0222</ca_table>
        </mach>
        <mach nr="0.6">
          <cn_table>.0000, .3058, .5776, .8835, 1.0210, 1.1251, 1.2047, 1.3162</cn_table>
          <cm_table> .0000, -1.2057, -2.2773, -3.4837, -4.0256, -4.4363, -4.7500, -5.1897</cm_table>
          <ca_table>.0220, .0220, .0220, .0220, .0220, .0220, .0220, .0220</ca_table>
        </mach>
        <mach nr="0.7">
          <cn_table>.0000, .3090, .5835, .8925, 1.0449, 1.1529, 1.2554, 1.3839</cn_table>
          <cm_table>.0000, -1.2180, -2.3000, -3.5184, -4.1193, -4.5447, -4.9488, -5.4556</cm_table>
          <ca_table>.0217, .0217, .0217, .0217, .0217, .0217, .0217, .0217</ca_table>
        </mach>
        <mach nr="0.75">
          <cn_table>.0000, .3148, .5951, .9124, 1.0761, 1.1889, 1.3036, 1.4442</cn_table>
          <cm_table>.0000, -1.2408, -2.3455, -3.5963, -4.2415, -4.6862, -5.1381, -5.6925</cm_table>
          <ca_table>.0215, .0215, .0215, .0215, .0215, .0215, .0215, .0215</ca_table>
        </mach>
        <mach nr="0.8">
          <cn_table>.0000, .3217, .6110, .9516, 1.1309, 1.2632, 1.3835, 1.5524</cn_table>
          <cm_table>.0000, -1.2678, -2.4078, -3.7498, -4.4566, -4.9777, -5.4518, -6.1174</cm_table>
          <ca_table>.0214, .0214, .0214, .0214, .0214, .0214, .0214, .0214</ca_table>
        </mach>
        <mach nr="0.93">
          <cn_table>.0000, .3446, .6624, 1.0588, 1.2808, 1.4380, 1.5948, 1.8203</cn_table>
          <cm_table>.0000, -1.3555, -2.6054, -4.1647, -5.0379, -5.6562, -6.2730, -7.1600</cm_table>
          <ca_table>.0561, .0561, .0561, .0561, .0561, .0561, .0561, .0561</ca_table>
        </mach>
      </aerodynamics>
    </plugin>
  </gazebo>
  <gazebo reference="base_link">
    <material>Gazebo/White</material>
    <mu1>0.2</mu1>
    <mu2>0.2</mu2>
    <selfCollide>true</selfCollide>
    <gravity>true</gravity>
    <visual>
      <plugin filename="libMultiplevectorVisual.so" name="LiftDragVisual">
        <topic_name vector_size="5">AeroVectors</topic_name>
      </plugin>
      <plugin filename="libForceVisual.so" name="VectoredThrustVisual">
        <topic_name>thrust_visual</topic_name>
        <color>Gazebo/Green</color>
      </plugin>
    </visual>
    <sensor name="camera_top_side" type="camera">
      <pose>-2 0.0 2 0.0 0.5236000000000001 0.0</pose>
      <camera>
        <horizontal_fov>1.347</horizontal_fov>
        <image>
          <width>640</width>
          <height>480</height>
        </image>
        <clip>
          <near>0.1</near>
          <far>100</far>
        </clip>
      </camera>
      <always_on>1</always_on>
      <update_rate>30</update_rate>
      <!-- <visualize>true</visualize> -->
    </sensor>
    <sensor name="camera_deflection" type="camera">
      <pose>-1.0 -1.0 0.0 0.0 0.0 2.3562</pose>
      <camera>
        <horizontal_fov>1.347</horizontal_fov>
        <image>
          <width>640</width>
          <height>480</height>
        </image>
        <clip>
          <near>0.1</near>
          <far>1000</far>
        </clip>
      </camera>
      <always_on>1</always_on>
      <update_rate>30</update_rate>
      <!-- <visualize>true</visualize> -->
    </sensor>
    <!-- <sensor name='imu_sensor' type='imu'>
    <always_on>1</always_on>
    <update_rate>30</update_rate>
    <imu/>
  </sensor> -->
    <sensor name="touching_ground" type="contact">
      <contact>
        <collision>base_link_collision</collision>
      </contact>
    </sensor>
  </gazebo>
  <gazebo reference="Booster_1">
    <material>Gazebo/Gray</material>
    <mu1>0.2</mu1>
    <mu2>0.2</mu2>
    <selfCollide>true</selfCollide>
    <visual>
      <plugin filename="libForceVisual.so" name="SimpleThrustVisual">
        <topic_name>booster_visual</topic_name>
        <color>Gazebo/Green</color>
      </plugin>
    </visual>
  </gazebo>
  <gazebo reference="FinHolder_1">
    <material>Gazebo/Blue</material>
    <mu1>0.2</mu1>
    <mu2>0.2</mu2>
    <selfCollide>true</selfCollide>
  </gazebo>
  <gazebo reference="FinHolder_4">
    <material>Gazebo/Blue</material>
    <mu1>0.2</mu1>
    <mu2>0.2</mu2>
    <selfCollide>true</selfCollide>
  </gazebo>
  <gazebo reference="FinHolder_3">
    <material>Gazebo/Blue</material>
    <mu1>0.2</mu1>
    <mu2>0.2</mu2>
    <selfCollide>true</selfCollide>
  </gazebo>
  <gazebo reference="FinHolder_2">
    <material>Gazebo/Blue</material>
    <mu1>0.2</mu1>
    <mu2>0.2</mu2>
    <selfCollide>true</selfCollide>
  </gazebo>
  <gazebo reference="Wing1_1">
    <material>Gazebo/Orange</material>
    <mu1>0.2</mu1>
    <mu2>0.2</mu2>
    <selfCollide>true</selfCollide>
  </gazebo>
  <gazebo reference="Wing1_2">
    <material>Gazebo/Orange</material>
    <mu1>0.2</mu1>
    <mu2>0.2</mu2>
    <selfCollide>true</selfCollide>
  </gazebo>
  <gazebo reference="Wing1_3">
    <material>Gazebo/Orange</material>
    <mu1>0.2</mu1>
    <mu2>0.2</mu2>
    <selfCollide>true</selfCollide>
  </gazebo>
  <gazebo reference="Wing1_4">
    <material>Gazebo/Orange</material>
    <mu1>0.2</mu1>
    <mu2>0.2</mu2>
    <selfCollide>true</selfCollide>
  </gazebo>
  <gazebo reference="Fin_1">
    <material>Gazebo/Orange</material>
    <mu1>0.2</mu1>
    <mu2>0.2</mu2>
    <selfCollide>true</selfCollide>
  </gazebo>
  <gazebo reference="Fin_2">
    <material>Gazebo/Orange</material>
    <mu1>0.2</mu1>
    <mu2>0.2</mu2>
    <selfCollide>true</selfCollide>
  </gazebo>
  <gazebo reference="Fin_3">
    <material>Gazebo/Orange</material>
    <mu1>0.2</mu1>
    <mu2>0.2</mu2>
    <selfCollide>true</selfCollide>
  </gazebo>
  <gazebo reference="Fin_4">
    <material>Gazebo/Orange</material>
    <mu1>0.2</mu1>
    <mu2>0.2</mu2>
    <selfCollide>true</selfCollide>
  </gazebo>
  <gazebo reference="Holder_1">
    <material>Gazebo/Grey</material>
    <mu1>0.2</mu1>
    <mu2>0.2</mu2>
    <selfCollide>true</selfCollide>
    <visual>
      <plugin filename="libForceVisual.so" name="Holder1Visual">
        <topic_name>holder1visual</topic_name>
        <color>Gazebo/Purple</color>
      </plugin>
    </visual>
  </gazebo>
  <gazebo reference="Holder_2">
    <material>Gazebo/Grey</material>
    <mu1>0.2</mu1>
    <mu2>0.2</mu2>
    <selfCollide>true</selfCollide>
    <visual>
      <plugin filename="libForceVisual.so" name="Holder2Visual">
        <topic_name>holder2visual</topic_name>
        <color>Gazebo/Purple</color>
      </plugin>
    </visual>
  </gazebo>
  <gazebo reference="Holder_3">
    <material>Gazebo/Grey</material>
    <mu1>0.2</mu1>
    <mu2>0.2</mu2>
    <selfCollide>true</selfCollide>
    <visual>
      <plugin filename="libForceVisual.so" name="Holder3Visual">
        <topic_name>holder3visual</topic_name>
        <color>Gazebo/Purple</color>
      </plugin>
    </visual>
  </gazebo>
  <gazebo reference="Holder_4">
    <material>Gazebo/Grey</material>
    <mu1>0.2</mu1>
    <mu2>0.2</mu2>
    <selfCollide>true</selfCollide>
    <visual>
      <plugin filename="libForceVisual.so" name="Holder4Visual">
        <topic_name>holder4visual</topic_name>
        <color>Gazebo/Purple</color>
      </plugin>
    </visual>
  </gazebo>
   --&gt;


  <gazebo reference="booster_fixing">
    <preserveFixedJoint>true</preserveFixedJoint>
  </gazebo>
  <gazebo reference="HolderJoint1">
    <preserveFixedJoint>true</preserveFixedJoint>
  </gazebo>
  <gazebo reference="HolderJoint2">
    <preserveFixedJoint>true</preserveFixedJoint>
  </gazebo>
  <gazebo reference="HolderJoint3">
    <preserveFixedJoint>true</preserveFixedJoint>
  </gazebo>
  <gazebo reference="HolderJoint4">
    <preserveFixedJoint>true</preserveFixedJoint>
  </gazebo>
  <link name="base_link">
    <inertial>
      <origin rpy="0 0 0" xyz="-4.5938008952361996e-12 -5.330786024108829e-16 -2.382079374378753e-16"/>
      <mass value="562.7679612503737"/>
      <inertia ixx="12.078708" ixy="0.0" ixz="0.0" iyy="817.09871" iyz="-0.0" izz="817.09871"/>
    </inertial>
    <visual>
      <origin rpy="0 0 0" xyz="0 0 0"/>
      <geometry>
        <mesh filename="package://model_missile_description/meshes/base_link.stl" scale="0.001 0.001 0.001"/>
      </geometry>
      <material name="white"/>
    </visual>
    <collision>
      <origin rpy="0 0 0" xyz="0 0 0"/>
      <geometry>
        <mesh filename="package://model_missile_description/meshes/base_link.stl" scale="0.001 0.001 0.001"/>
      </geometry>
    </collision>
  </link>
  <link name="Booster_1">
    <inertial>
      <origin rpy="0 0 0" xyz="-0.5305587019886722 3.685572621648184e-09 -9.224211236366606e-10"/>
      <mass value="120.00001114591107"/>
      <inertia ixx="5.768641" ixy="-0.0" ixz="0.0" iyy="16.618567" iyz="-0.0" izz="16.618567"/>
    </inertial>
    <visual>
      <origin rpy="0 0 0" xyz="1.880856 -0.0 -0.0"/>
      <geometry>
        <mesh filename="package://model_missile_description/meshes/Booster_1.stl" scale="0.001 0.001 0.001"/>
      </geometry>
      <material name="grey"/>
    </visual>
    <collision>
      <origin rpy="0 0 0" xyz="1.880856 -0.0 -0.0"/>
      <geometry>
        <mesh filename="package://model_missile_description/meshes/Booster_1.stl" scale="0.001 0.001 0.001"/>
      </geometry>
    </collision>
  </link>
  <link name="FinHolder_1">
    <inertial>
      <origin rpy="0 0 0" xyz="0.011989970177444853 0.024895470365400352 0.02489052657337168"/>
      <mass value="0.6999999481439694"/>
      <inertia ixx="0.00025" ixy="3e-05" ixz="3e-05" iyy="0.004649" iyz="-9.8e-05" izz="0.004649"/>
    </inertial>
    <visual>
      <origin rpy="0 0 0" xyz="1.700844 -0.127279 -0.127279"/>
      <geometry>
        <mesh filename="package://model_missile_description/meshes/FinHolder_1.stl" scale="0.001 0.001 0.001"/>
      </geometry>
      <material name="blue"/>
    </visual>
    <collision>
      <origin rpy="0 0 0" xyz="1.700844 -0.127279 -0.127279"/>
      <geometry>
        <mesh filename="package://model_missile_description/meshes/FinHolder_1.stl" scale="0.001 0.001 0.001"/>
      </geometry>
    </collision>
  </link>
  <link name="FinHolder_4">
    <inertial>
      <origin rpy="0 0 0" xyz="0.011989970177444853 -0.024890526573368127 0.0248954703654041"/>
      <mass value="0.6999999481439694"/>
      <inertia ixx="0.00025" ixy="-3e-05" ixz="3e-05" iyy="0.004649" iyz="9.8e-05" izz="0.004649"/>
    </inertial>
    <visual>
      <origin rpy="0 0 0" xyz="1.700844 0.127279 -0.127279"/>
      <geometry>
        <mesh filename="package://model_missile_description/meshes/FinHolder_4.stl" scale="0.001 0.001 0.001"/>
      </geometry>
      <material name="blue"/>
    </visual>
    <collision>
      <origin rpy="0 0 0" xyz="1.700844 0.127279 -0.127279"/>
      <geometry>
        <mesh filename="package://model_missile_description/meshes/FinHolder_4.stl" scale="0.001 0.001 0.001"/>
      </geometry>
    </collision>
  </link>
  <link name="FinHolder_3">
    <inertial>
      <origin rpy="0 0 0" xyz="0.011989970177444853 -0.024895470365400463 -0.02489052657336438"/>
      <mass value="0.6999999481439694"/>
      <inertia ixx="0.00025" ixy="-3e-05" ixz="-3e-05" iyy="0.004649" iyz="-9.8e-05" izz="0.004649"/>
    </inertial>
    <visual>
      <origin rpy="0 0 0" xyz="1.700844 0.127279 0.127279"/>
      <geometry>
        <mesh filename="package://model_missile_description/meshes/FinHolder_3.stl" scale="0.001 0.001 0.001"/>
      </geometry>
      <material name="blue"/>
    </visual>
    <collision>
      <origin rpy="0 0 0" xyz="1.700844 0.127279 0.127279"/>
      <geometry>
        <mesh filename="package://model_missile_description/meshes/FinHolder_3.stl" scale="0.001 0.001 0.001"/>
      </geometry>
    </collision>
  </link>
  <link name="FinHolder_2">
    <inertial>
      <origin rpy="0 0 0" xyz="0.011989970177444409 0.024890526573368155 -0.024895470365396688"/>
      <mass value="0.6999999481439694"/>
      <inertia ixx="0.00025" ixy="3e-05" ixz="-3e-05" iyy="0.004649" iyz="9.8e-05" izz="0.004649"/>
    </inertial>
    <visual>
      <origin rpy="0 0 0" xyz="1.700844 -0.127279 0.127279"/>
      <geometry>
        <mesh filename="package://model_missile_description/meshes/FinHolder_2.stl" scale="0.001 0.001 0.001"/>
      </geometry>
      <material name="blue"/>
    </visual>
    <collision>
      <origin rpy="0 0 0" xyz="1.700844 -0.127279 0.127279"/>
      <geometry>
        <mesh filename="package://model_missile_description/meshes/FinHolder_2.stl" scale="0.001 0.001 0.001"/>
      </geometry>
    </collision>
  </link>
  <link name="Wing1_1">
    <inertial>
      <origin rpy="0 0 0" xyz="-0.031208061901909834 0.07128204697290338 0.07128204710602434"/>
      <mass value="9.299979574219194"/>
      <inertia ixx="0.055746" ixy="0.012327" ixz="0.012327" iyy="0.41744" iyz="-0.02758" izz="0.41744"/>
    </inertial>
    <visual>
      <origin rpy="0 0 0" xyz="0.380856 -0.163355 -0.163355"/>
      <geometry>
        <mesh filename="package://model_missile_description/meshes/Wing1_1.stl" scale="0.001 0.001 0.001"/>
      </geometry>
      <material name="orange"/>
    </visual>
    <collision>
      <origin rpy="0 0 0" xyz="0.380856 -0.163355 -0.163355"/>
      <geometry>
        <mesh filename="package://model_missile_description/meshes/Wing1_1.stl" scale="0.001 0.001 0.001"/>
      </geometry>
    </collision>
  </link>
  <link name="Wing1_2">
    <inertial>
      <origin rpy="0 0 0" xyz="-0.031208061901910722 0.07057494032483622 -0.07057494019171545"/>
      <mass value="9.299979574219194"/>
      <inertia ixx="0.055746" ixy="0.012327" ixz="-0.012327" iyy="0.41744" iyz="0.02758" izz="0.41744"/>
    </inertial>
    <visual>
      <origin rpy="0 0 0" xyz="0.380856 -0.163355 0.163355"/>
      <geometry>
        <mesh filename="package://model_missile_description/meshes/Wing1_2.stl" scale="0.001 0.001 0.001"/>
      </geometry>
      <material name="orange"/>
    </visual>
    <collision>
      <origin rpy="0 0 0" xyz="0.380856 -0.163355 0.163355"/>
      <geometry>
        <mesh filename="package://model_missile_description/meshes/Wing1_2.stl" scale="0.001 0.001 0.001"/>
      </geometry>
    </collision>
  </link>
  <link name="Wing1_3">
    <inertial>
      <origin rpy="0 0 0" xyz="-0.031208061901910722 -0.07057494019171678 -0.0705749403248346"/>
      <mass value="9.299979574219194"/>
      <inertia ixx="0.055746" ixy="-0.012327" ixz="-0.012327" iyy="0.41744" iyz="-0.02758" izz="0.41744"/>
    </inertial>
    <visual>
      <origin rpy="0 0 0" xyz="0.380856 0.163355 0.163355"/>
      <geometry>
        <mesh filename="package://model_missile_description/meshes/Wing1_3.stl" scale="0.001 0.001 0.001"/>
      </geometry>
      <material name="orange"/>
    </visual>
    <collision>
      <origin rpy="0 0 0" xyz="0.380856 0.163355 0.163355"/>
      <geometry>
        <mesh filename="package://model_missile_description/meshes/Wing1_3.stl" scale="0.001 0.001 0.001"/>
      </geometry>
    </collision>
  </link>
  <link name="Wing1_4">
    <inertial>
      <origin rpy="0 0 0" xyz="-0.031208061901909945 -0.07057494032483608 0.07057494019171842"/>
      <mass value="9.299979574219194"/>
      <inertia ixx="0.055746" ixy="-0.012327" ixz="0.012327" iyy="0.41744" iyz="0.02758" izz="0.41744"/>
    </inertial>
    <visual>
      <origin rpy="0 0 0" xyz="0.380856 0.163355 -0.163355"/>
      <geometry>
        <mesh filename="package://model_missile_description/meshes/Wing1_4.stl" scale="0.001 0.001 0.001"/>
      </geometry>
      <material name="orange"/>
    </visual>
    <collision>
      <origin rpy="0 0 0" xyz="0.380856 0.163355 -0.163355"/>
      <geometry>
        <mesh filename="package://model_missile_description/meshes/Wing1_4.stl" scale="0.001 0.001 0.001"/>
      </geometry>
    </collision>
  </link>
  <link name="Fin_1">
    <inertial>
      <origin rpy="0 0 0" xyz="-0.014318251120852166 0.06139665026364291 0.061396650263642966"/>
      <mass value="1.500000007859579"/>
      <inertia ixx="0.006929" ixy="0.000899" ixz="0.000899" iyy="0.007262" iyz="-0.003432" izz="0.007262"/>
    </inertial>
    <visual>
      <origin rpy="0 0 0" xyz="1.700844 -0.16617 -0.16617"/>
      <geometry>
        <mesh filename="package://model_missile_description/meshes/Fin_1.stl" scale="0.001 0.001 0.001"/>
      </geometry>
      <material name="orange"/>
    </visual>
    <collision>
      <origin rpy="0 0 0" xyz="1.700844 -0.16617 -0.16617"/>
      <geometry>
        <mesh filename="package://model_missile_description/meshes/Fin_1.stl" scale="0.001 0.001 0.001"/>
      </geometry>
    </collision>
  </link>
  <link name="Fin_2">
    <inertial>
      <origin rpy="0 0 0" xyz="-0.01431825112085261 0.06139642160960024 -0.061396878917678394"/>
      <mass value="1.500000007859579"/>
      <inertia ixx="0.006929" ixy="0.000899" ixz="-0.000899" iyy="0.007262" iyz="0.003432" izz="0.007262"/>
    </inertial>
    <visual>
      <origin rpy="0 0 0" xyz="1.700844 -0.166158 0.166182"/>
      <geometry>
        <mesh filename="package://model_missile_description/meshes/Fin_2.stl" scale="0.001 0.001 0.001"/>
      </geometry>
      <material name="orange"/>
    </visual>
    <collision>
      <origin rpy="0 0 0" xyz="1.700844 -0.166158 0.166182"/>
      <geometry>
        <mesh filename="package://model_missile_description/meshes/Fin_2.stl" scale="0.001 0.001 0.001"/>
      </geometry>
    </collision>
  </link>
  <link name="Fin_3">
    <inertial>
      <origin rpy="0 0 0" xyz="-0.014318251120852166 -0.06139665026364283 -0.06139665026363558"/>
      <mass value="1.500000007859579"/>
      <inertia ixx="0.006929" ixy="-0.000899" ixz="-0.000899" iyy="0.007262" iyz="-0.003432" izz="0.007262"/>
    </inertial>
    <visual>
      <origin rpy="0 0 0" xyz="1.700844 0.16617 0.16617"/>
      <geometry>
        <mesh filename="package://model_missile_description/meshes/Fin_3.stl" scale="0.001 0.001 0.001"/>
      </geometry>
      <material name="orange"/>
    </visual>
    <collision>
      <origin rpy="0 0 0" xyz="1.700844 0.16617 0.16617"/>
      <geometry>
        <mesh filename="package://model_missile_description/meshes/Fin_3.stl" scale="0.001 0.001 0.001"/>
      </geometry>
    </collision>
  </link>
  <link name="Fin_4">
    <inertial>
      <origin rpy="0 0 0" xyz="-0.014318251120852166 -0.061396650263639274 0.06139665026364652"/>
      <mass value="1.500000007859579"/>
      <inertia ixx="0.006929" ixy="-0.000899" ixz="0.000899" iyy="0.007262" iyz="0.003432" izz="0.007262"/>
    </inertial>
    <visual>
      <origin rpy="0 0 0" xyz="1.700844 0.16617 -0.16617"/>
      <geometry>
        <mesh filename="package://model_missile_description/meshes/Fin_4.stl" scale="0.001 0.001 0.001"/>
      </geometry>
      <material name="orange"/>
    </visual>
    <collision>
      <origin rpy="0 0 0" xyz="1.700844 0.16617 -0.16617"/>
      <geometry>
        <mesh filename="package://model_missile_description/meshes/Fin_4.stl" scale="0.001 0.001 0.001"/>
      </geometry>
    </collision>
  </link>
  <link name="Holder_1">
    <inertial>
      <origin rpy="0 0 0" xyz="-0.19999995584291042 0.025232520282130994 0.02523252028212361"/>
      <mass value="13.50000107858645"/>
      <inertia ixx="0.184494" ixy="-0.0" ixz="-0.0" iyy="0.864601" iyz="0.079825" izz="0.864601"/>
    </inertial>
    <visual>
      <origin rpy="0 0 0" xyz="-1.375615 -0.132493 -0.132493"/>
      <geometry>
        <mesh filename="package://model_missile_description/meshes/Holder_1.stl" scale="0.001 0.001 0.001"/>
      </geometry>
      <material name="darkgrey"/>
    </visual>
    <collision>
      <origin rpy="0 0 0" xyz="-1.375615 -0.132493 -0.132493"/>
      <geometry>
        <mesh filename="package://model_missile_description/meshes/Holder_1.stl" scale="0.001 0.001 0.001"/>
      </geometry>
    </collision>
  </link>
  <link name="Holder_2">
    <inertial>
      <origin rpy="0 0 0" xyz="-0.19999995584291042 -0.02523252028212361 0.025232520282130994"/>
      <mass value="13.50000107858645"/>
      <inertia ixx="0.184494" ixy="0.0" ixz="-0.0" iyy="0.864601" iyz="-0.079825" izz="0.864601"/>
    </inertial>
    <visual>
      <origin rpy="0 0 0" xyz="-1.375615 0.132493 -0.132493"/>
      <geometry>
        <mesh filename="package://model_missile_description/meshes/Holder_2.stl" scale="0.001 0.001 0.001"/>
      </geometry>
      <material name="darkgrey"/>
    </visual>
    <collision>
      <origin rpy="0 0 0" xyz="-1.375615 0.132493 -0.132493"/>
      <geometry>
        <mesh filename="package://model_missile_description/meshes/Holder_2.stl" scale="0.001 0.001 0.001"/>
      </geometry>
    </collision>
  </link>
  <link name="Holder_3">
    <inertial>
      <origin rpy="0 0 0" xyz="-0.19999995584291042 -0.025232520282130994 -0.025232520282123555"/>
      <mass value="13.50000107858645"/>
      <inertia ixx="0.184494" ixy="0.0" ixz="0.0" iyy="0.864601" iyz="0.079825" izz="0.864601"/>
    </inertial>
    <visual>
      <origin rpy="0 0 0" xyz="-1.375615 0.132493 0.132493"/>
      <geometry>
        <mesh filename="package://model_missile_description/meshes/Holder_3.stl" scale="0.001 0.001 0.001"/>
      </geometry>
      <material name="darkgrey"/>
    </visual>
    <collision>
      <origin rpy="0 0 0" xyz="-1.375615 0.132493 0.132493"/>
      <geometry>
        <mesh filename="package://model_missile_description/meshes/Holder_3.stl" scale="0.001 0.001 0.001"/>
      </geometry>
    </collision>
  </link>
  <link name="Holder_4">
    <inertial>
      <origin rpy="0 0 0" xyz="-0.19999995584291042 0.025232520282123555 -0.025232520282130994"/>
      <mass value="13.50000107858645"/>
      <inertia ixx="0.184494" ixy="-0.0" ixz="0.0" iyy="0.864601" iyz="-0.079825" izz="0.864601"/>
    </inertial>
    <visual>
      <origin rpy="0 0 0" xyz="-1.375615 -0.132493 0.132493"/>
      <geometry>
        <mesh filename="package://model_missile_description/meshes/Holder_4.stl" scale="0.001 0.001 0.001"/>
      </geometry>
      <material name="darkgrey"/>
    </visual>
    <collision>
      <origin rpy="0 0 0" xyz="-1.375615 -0.132493 0.132493"/>
      <geometry>
        <mesh filename="package://model_missile_description/meshes/Holder_4.stl" scale="0.001 0.001 0.001"/>
      </geometry>
    </collision>
  </link>
  <joint name="booster_fixing" type="fixed">
    <origin rpy="0 0 0" xyz="-1.880856 0.0 0.0"/>
    <parent link="base_link"/>
    <child link="Booster_1"/>
  </joint>
  <joint name="fins_rev1" type="revolute">
    <origin rpy="0 0 0" xyz="-1.700844 0.127279 0.127279"/>
    <parent link="base_link"/>
    <child link="FinHolder_1"/>
    <axis xyz="-0.0 0.707107 0.707107"/>
    <limit effort="100" lower="-0.349066" upper="0.349066" velocity="100"/>
  </joint>
  <joint name="fins_rev4" type="revolute">
    <origin rpy="0 0 0" xyz="-1.700844 -0.127279 0.127279"/>
    <parent link="base_link"/>
    <child link="FinHolder_4"/>
    <axis xyz="-0.0 -0.707107 0.707107"/>
    <limit effort="100" lower="-0.349066" upper="0.349066" velocity="100"/>
  </joint>
  <joint name="fins_rev3" type="revolute">
    <origin rpy="0 0 0" xyz="-1.700844 -0.127279 -0.127279"/>
    <parent link="base_link"/>
    <child link="FinHolder_3"/>
    <axis xyz="-0.0 -0.707107 -0.707107"/>
    <limit effort="100" lower="-0.349066" upper="0.349066" velocity="100"/>
  </joint>
  <joint name="fins_rev2" type="revolute">
    <origin rpy="0 0 0" xyz="-1.700844 0.127279 -0.127279"/>
    <parent link="base_link"/>
    <child link="FinHolder_2"/>
    <axis xyz="-0.0 0.707107 -0.707107"/>
    <limit effort="100" lower="-0.349066" upper="0.349066" velocity="100"/>
  </joint>
  <joint name="wings_fold1" type="revolute">
    <origin rpy="0 0 0" xyz="-0.380856 0.163355 0.163355"/>
    <parent link="base_link"/>
    <child link="Wing1_1"/>
    <axis xyz="1.0 -0.0 -0.0"/>
    <limit effort="100" lower="0.0" upper="2.146755" velocity="100"/>
  </joint>
  <joint name="wings_fold2" type="revolute">
    <origin rpy="0 0 0" xyz="-0.380856 0.163355 -0.163355"/>
    <parent link="base_link"/>
    <child link="Wing1_2"/>
    <axis xyz="1.0 0.0 -0.0"/>
    <limit effort="100" lower="0.0" upper="2.146755" velocity="100"/>
  </joint>
  <joint name="wings_fold3" type="revolute">
    <origin rpy="0 0 0" xyz="-0.380856 -0.163355 -0.163355"/>
    <parent link="base_link"/>
    <child link="Wing1_3"/>
    <axis xyz="1.0 0.0 -0.0"/>
    <limit effort="100" lower="0.0" upper="2.146755" velocity="100"/>
  </joint>
  <joint name="wings_fold4" type="revolute">
    <origin rpy="0 0 0" xyz="-0.380856 -0.163355 0.163355"/>
    <parent link="base_link"/>
    <child link="Wing1_4"/>
    <axis xyz="1.0 -0.0 -0.0"/>
    <limit effort="100" lower="0.0" upper="2.146755" velocity="100"/>
  </joint>
  <joint name="fin_fold1" type="revolute">
    <origin rpy="0 0 0" xyz="0.0 0.038891 0.038891"/>
    <parent link="FinHolder_1"/>
    <child link="Fin_1"/>
    <axis xyz="1.0 0.0 0.0"/>
    <limit effort="100" lower="0.0" upper="2.146755" velocity="100"/>
  </joint>
  <joint name="fin_fold2" type="revolute">
    <origin rpy="0 0 0" xyz="0.0 0.038879 -0.038903"/>
    <parent link="FinHolder_2"/>
    <child link="Fin_2"/>
    <axis xyz="1.0 0.0 -0.0"/>
    <limit effort="100" lower="0.0" upper="2.146755" velocity="100"/>
  </joint>
  <joint name="fin_fold3" type="revolute">
    <origin rpy="0 0 0" xyz="0.0 -0.038891 -0.038891"/>
    <parent link="FinHolder_3"/>
    <child link="Fin_3"/>
    <axis xyz="1.0 -0.0 -0.0"/>
    <limit effort="100" lower="0.0" upper="2.146755" velocity="100"/>
  </joint>
  <joint name="fin_fold4" type="revolute">
    <origin rpy="0 0 0" xyz="0.0 -0.038891 0.038891"/>
    <parent link="FinHolder_4"/>
    <child link="Fin_4"/>
    <axis xyz="1.0 -0.0 0.0"/>
    <limit effort="100" lower="0.0" upper="2.146755" velocity="100"/>
  </joint>
  <joint name="HolderJoint1" type="fixed">
    <origin rpy="0 0 0" xyz="1.375615 0.132493 0.132493"/>
    <parent link="base_link"/>
    <child link="Holder_1"/>
  </joint>
  <joint name="HolderJoint2" type="fixed">
    <origin rpy="0 0 0" xyz="1.375615 -0.132493 0.132493"/>
    <parent link="base_link"/>
    <child link="Holder_2"/>
  </joint>
  <joint name="HolderJoint3" type="fixed">
    <origin rpy="0 0 0" xyz="1.375615 -0.132493 -0.132493"/>
    <parent link="base_link"/>
    <child link="Holder_3"/>
  </joint>
  <joint name="HolderJoint4" type="fixed">
    <origin rpy="0 0 0" xyz="1.375615 0.132493 -0.132493"/>
    <parent link="base_link"/>
    <child link="Holder_4"/>
  </joint>
</robot>
